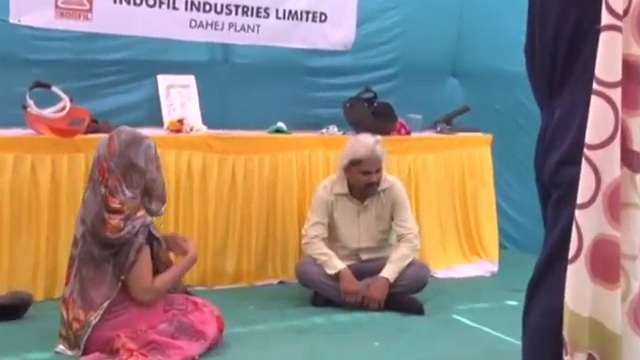helmet_off: (101, 130, 166, 207), (343, 137, 384, 199)
person: (56, 123, 225, 360), (520, 1, 604, 358), (292, 133, 430, 317)
